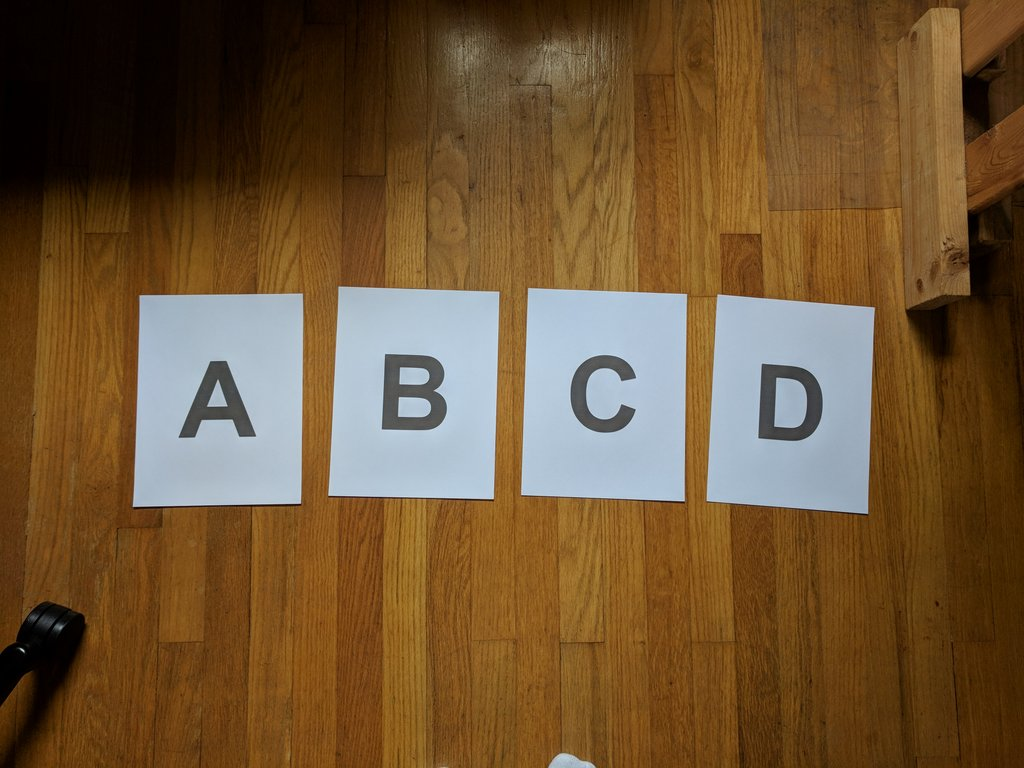home: (381, 352, 447, 430)
